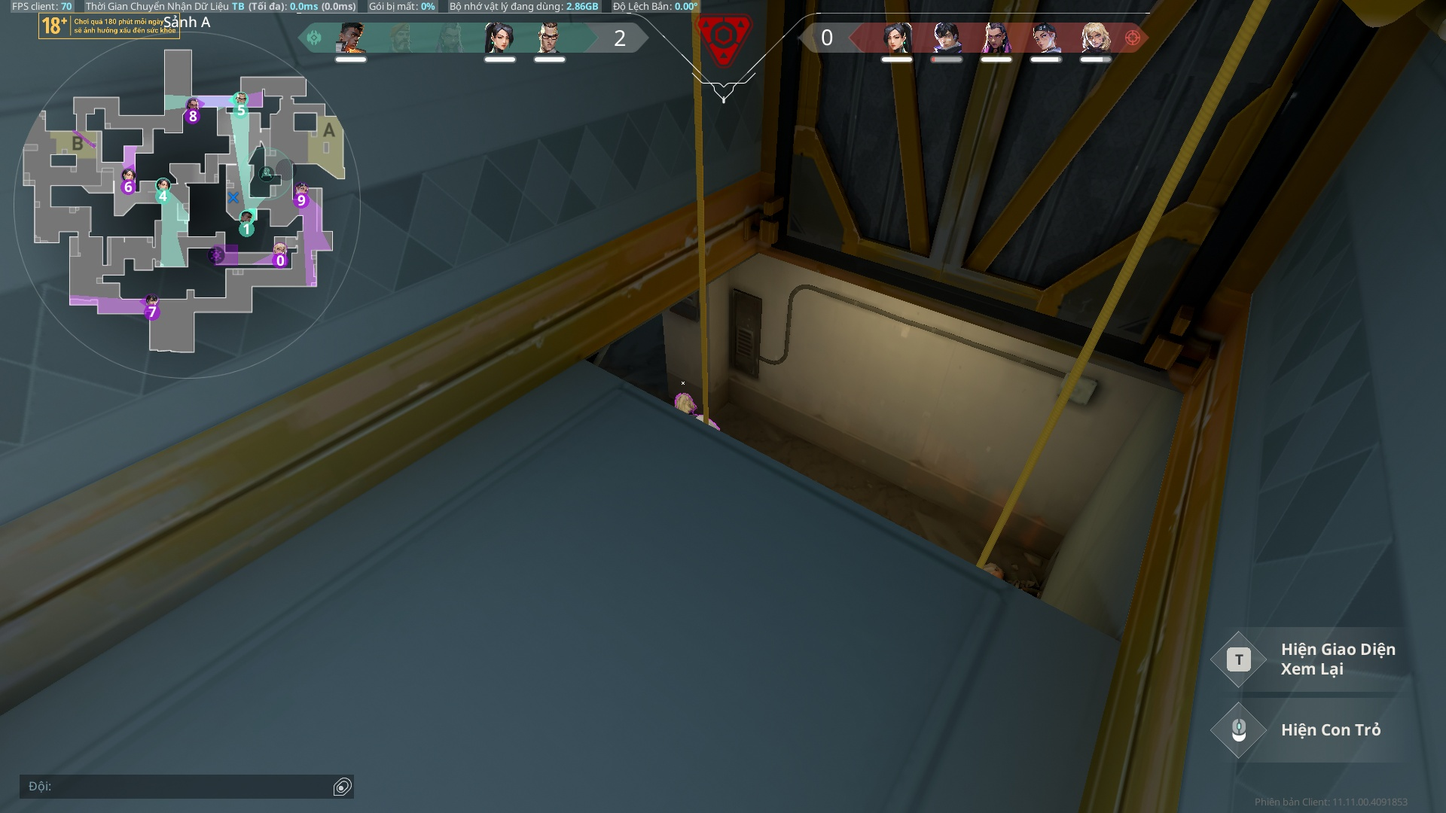head: (671, 389, 700, 416)
